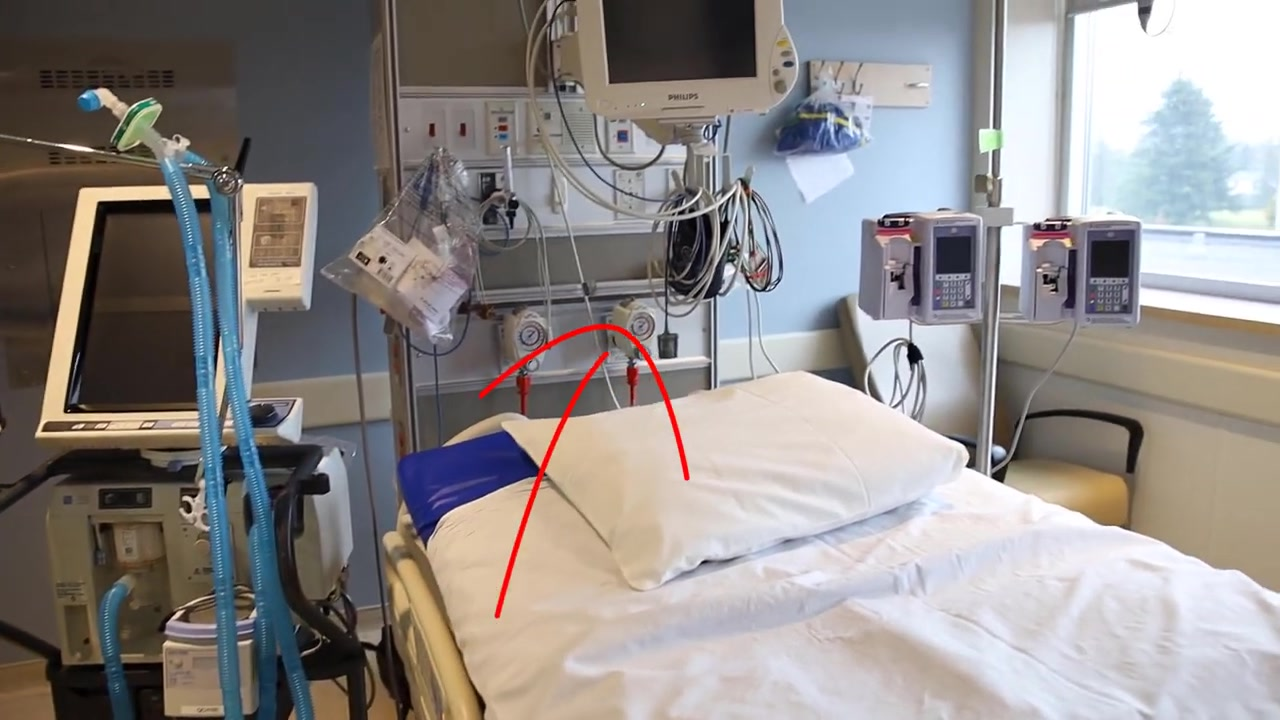bedrail: (370, 527, 491, 720)
bedside_monitor: (570, 1, 798, 118)
breathing_tube: (75, 83, 317, 720)
chair: (834, 290, 1145, 531)
hospital_bed: (386, 366, 1280, 720)
infusion_pump: (861, 208, 982, 329), (1017, 222, 1147, 329)
iv_pole: (973, 1, 1010, 472)
ventilator: (33, 174, 359, 719)
